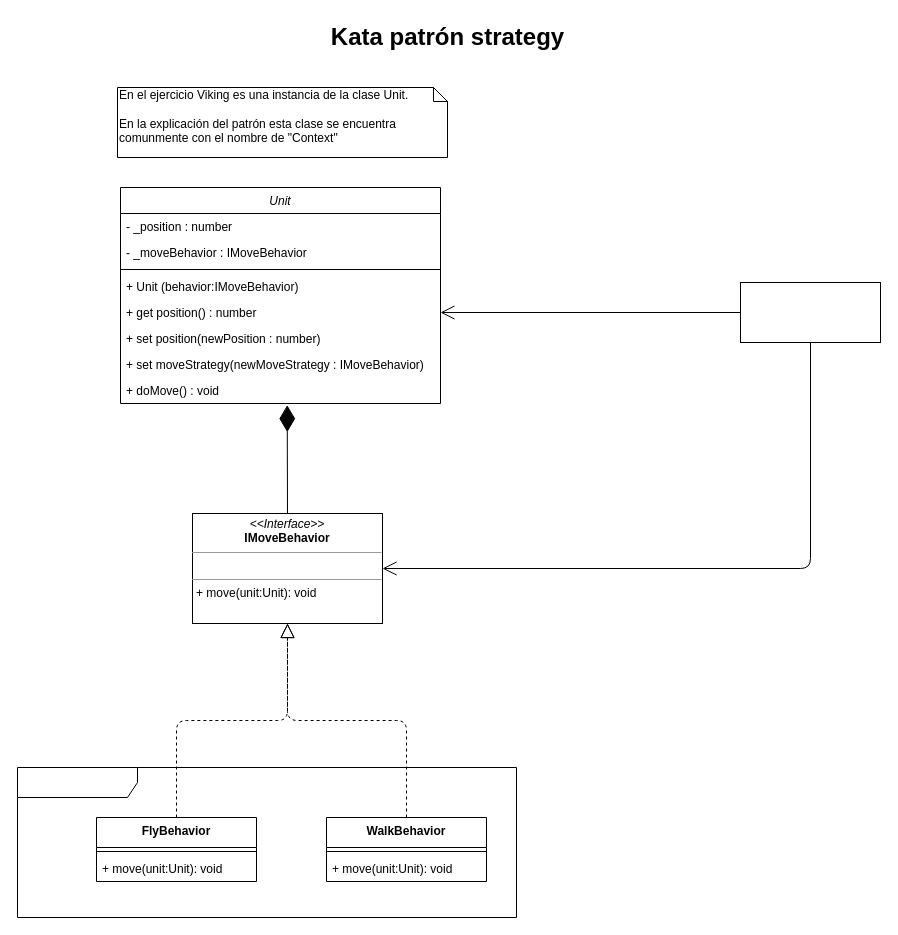
Some shapes in this 898 by 935 pixel diagram are drawn without their labels. Here are the shapes that lost their labels. From the top down, the box of each, then its label:
(740, 282, 880, 342): Client
(16, 766, 516, 918): Comportamientos concretos
